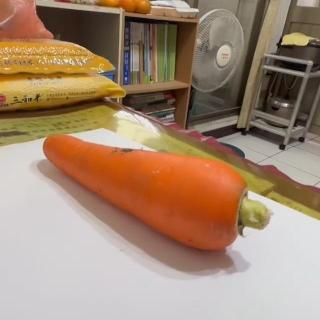carrot: (41, 132, 271, 252)
